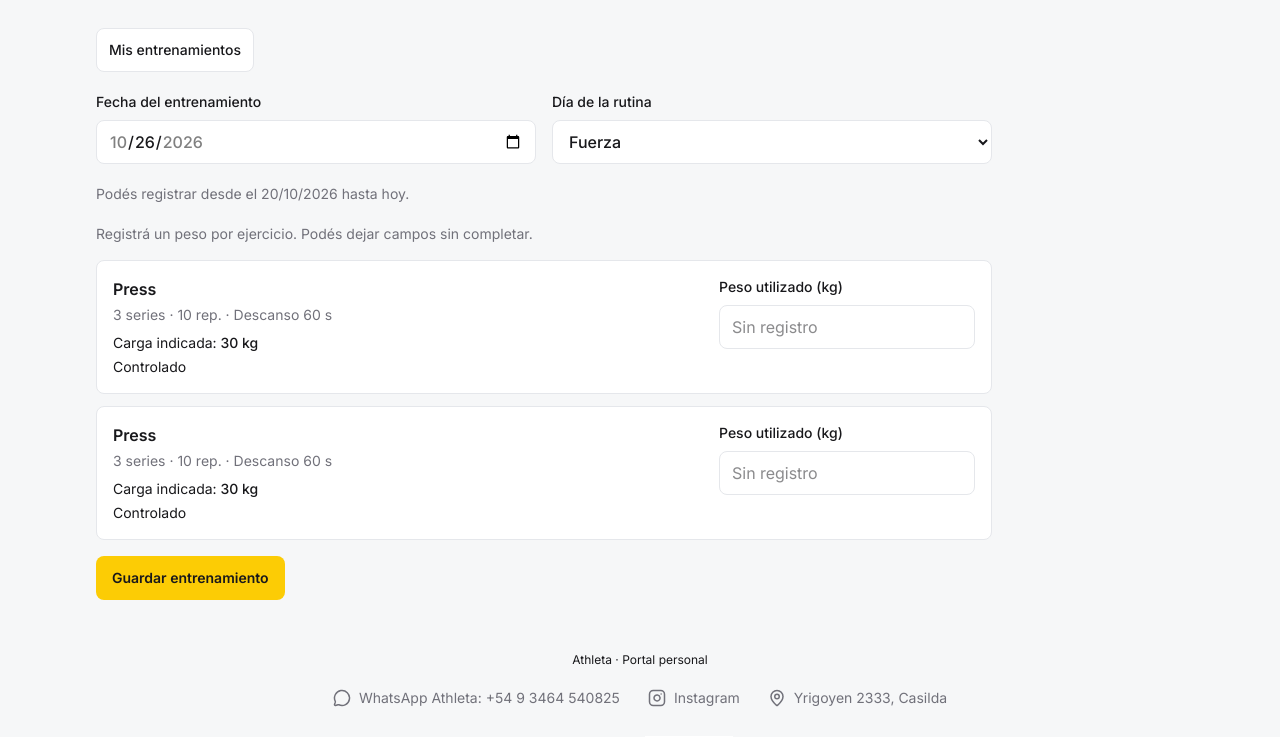
it: validates an empty training and invalid/negative weights without sending them
(page scrolled)
Click the button "Guardar entrenamiento" at (190, 578), box top-left (96, 556), bottom-right (285, 600)
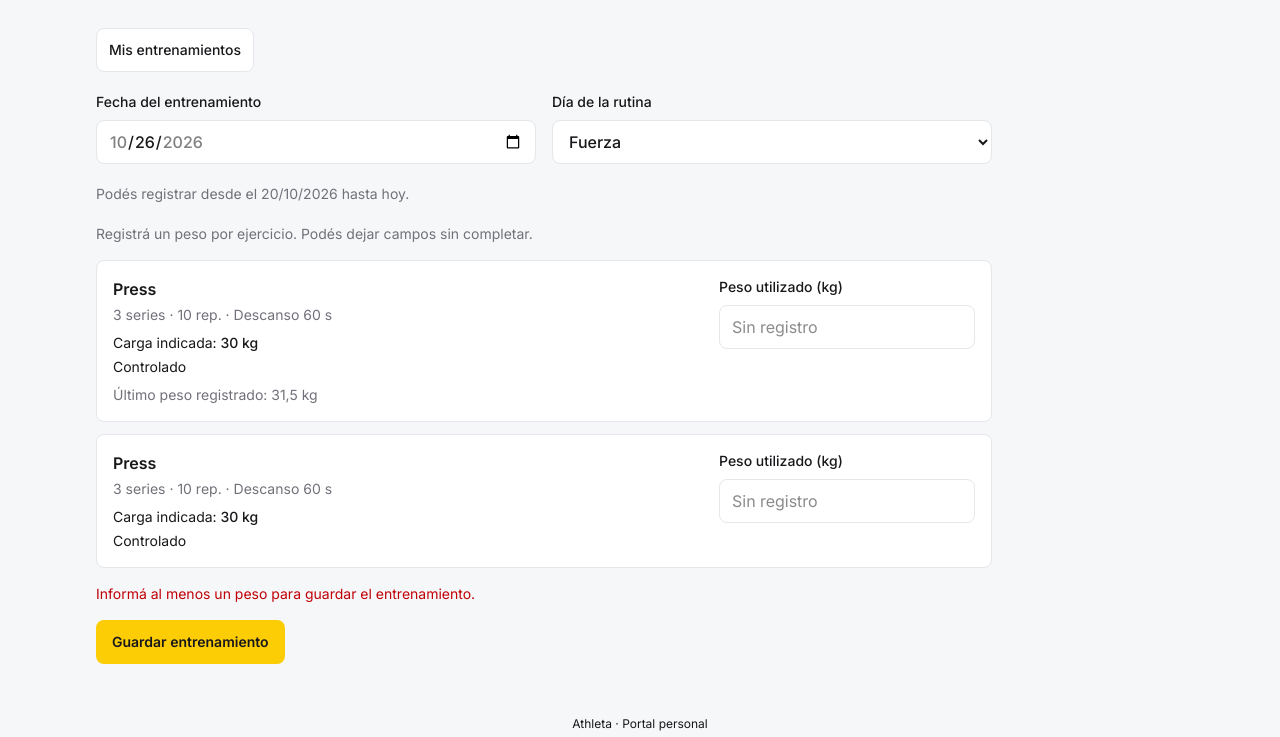
expect the text "Informá al menos un peso para guardar el entrenamiento." is shown: met, box top-left (96, 585), bottom-right (475, 602)
Type "-5" into the 1st field labelled "Peso utilizado (kg)" at (847, 327), box top-left (719, 305), bottom-right (975, 349)
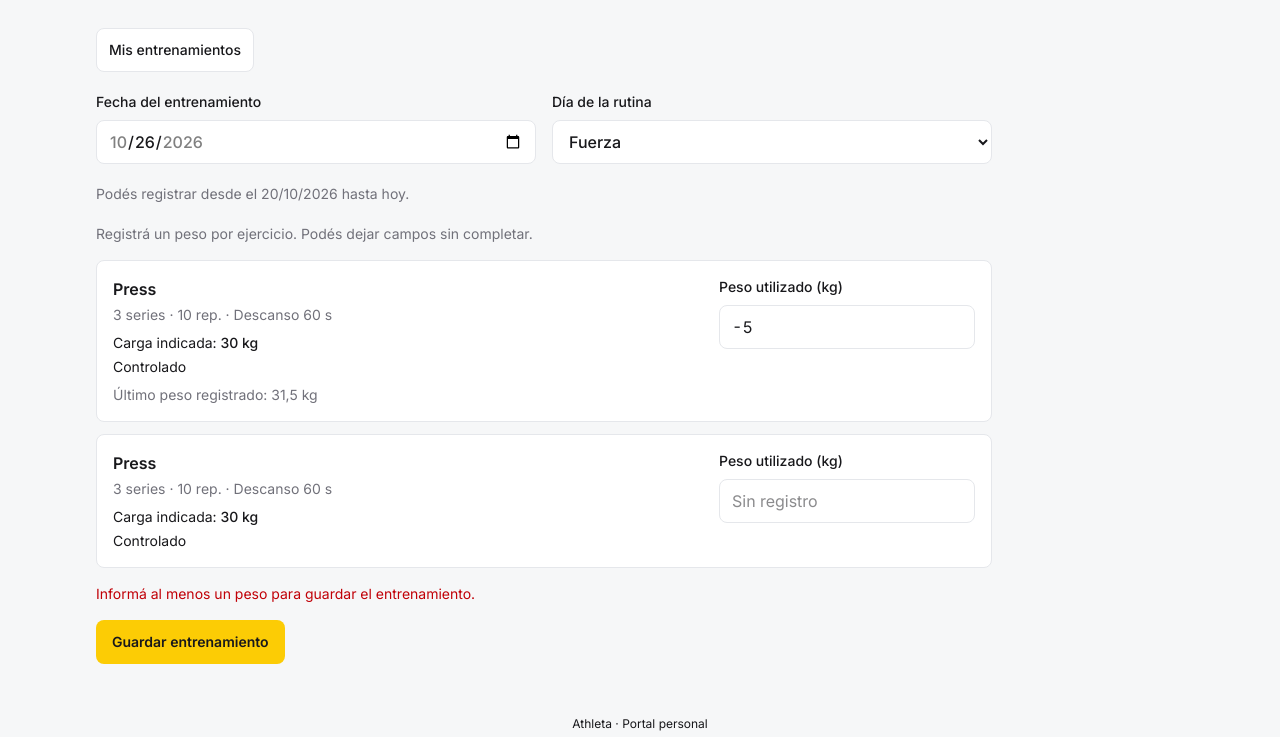
Click the button "Guardar entrenamiento" at (190, 642), box top-left (96, 620), bottom-right (285, 664)
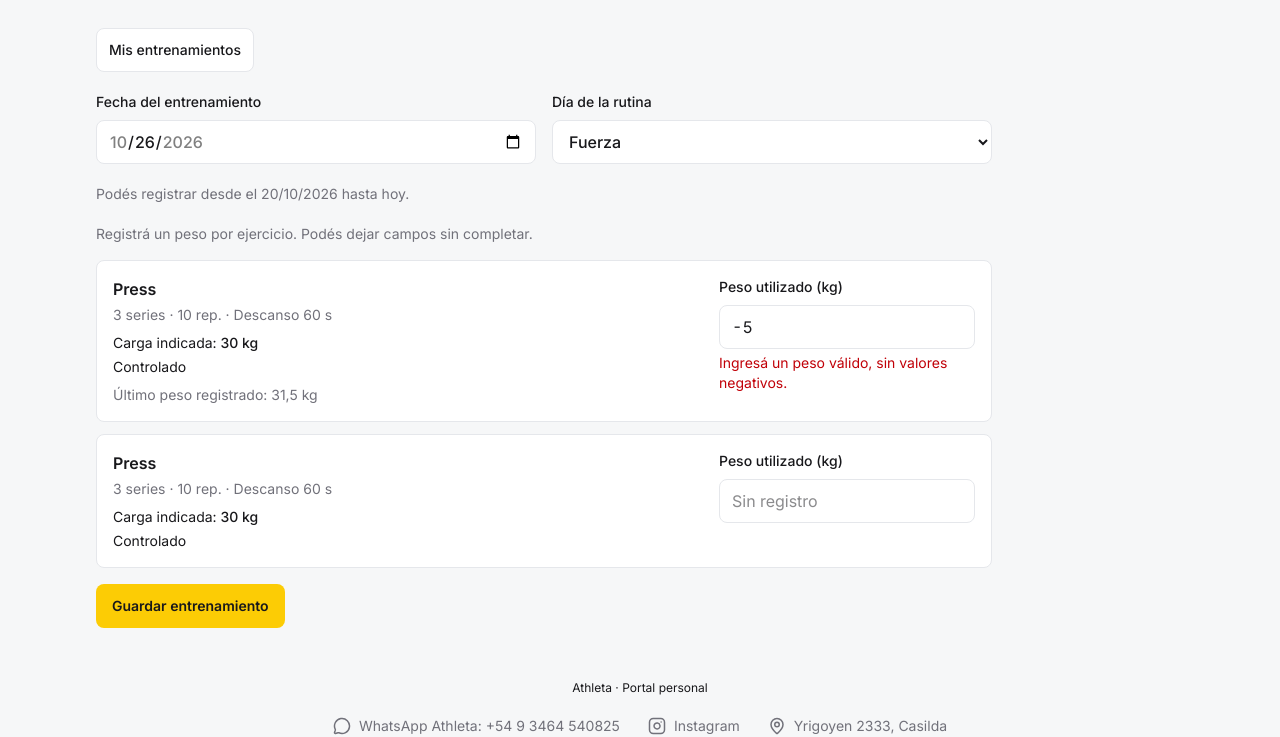
expect the text "Ingresá un peso válido, sin valores negativos." is shown: met, box top-left (719, 353), bottom-right (975, 393)
